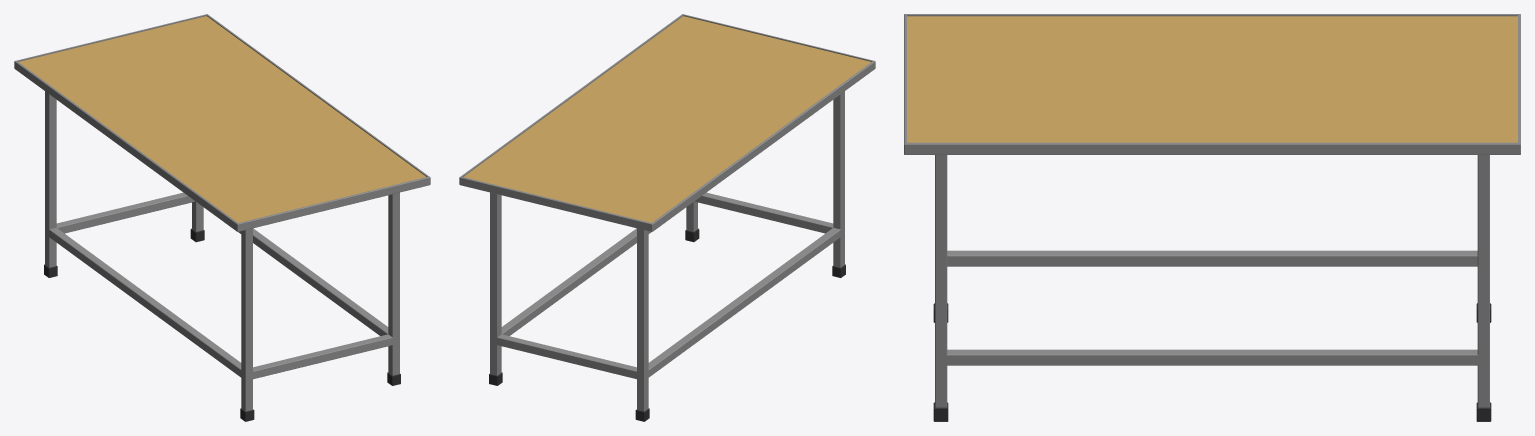
Rendered from Table.fbx.
The picture shows the model from 3 angles, left to right: view 1: azimuth 30°, elevation 25°; view 2: azimuth 150°, elevation 25°; view 3: azimuth 270°, elevation 25°; orthographic projection. The views are drawn at different scales.
Visible parts, largest first — view 1: Table; view 2: Table; view 3: Table.
Part boxes in pixels (x1,y1,x2,y2): Table: (14, 14, 430, 421); Table: (459, 14, 875, 421); Table: (904, 14, 1520, 421).
Size of the model in its own units: 100 by 104 by 200.
